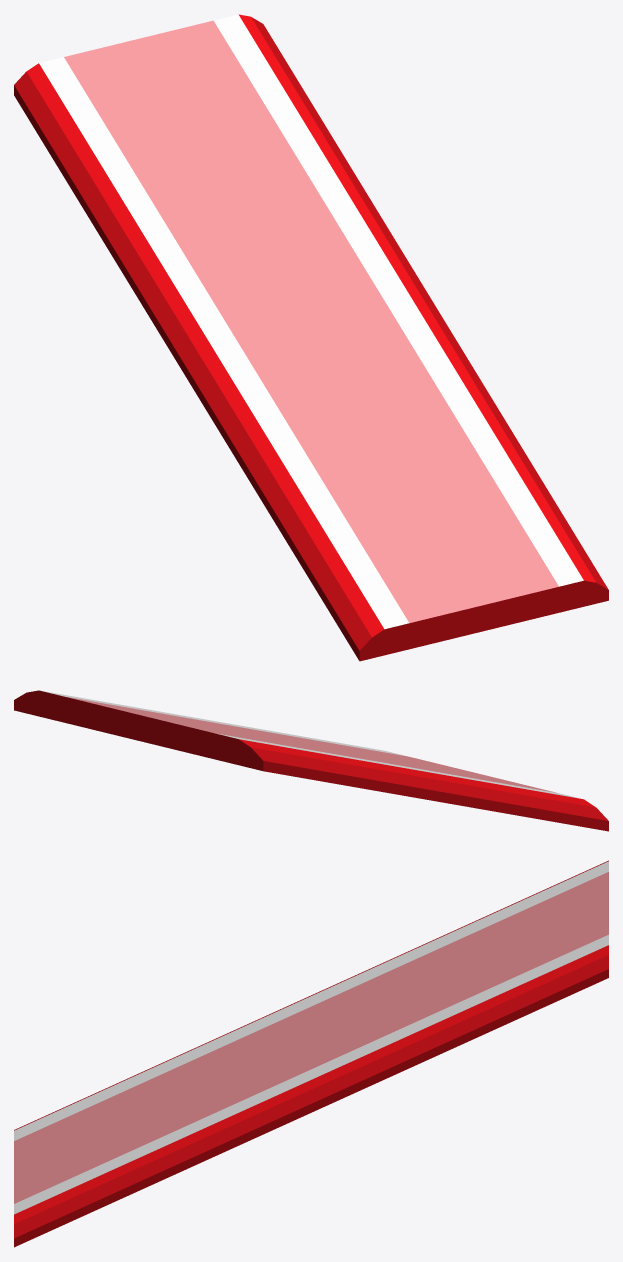
Rendered from longf4.fbx.
3 renders of one model, top to bottom at view 1: azimuth 30°, elevation 25°; view 2: azimuth 150°, elevation 25°; view 3: azimuth 270°, elevation 25°, orthographic. The views are drawn at different scales.
Visible parts, largest first — view 1: InclineLong4; view 2: InclineLong4; view 3: InclineLong4.
Part boxes in pixels (x1,y1,x2,y2): InclineLong4: (14, 14, 608, 661); InclineLong4: (14, 690, 608, 831); InclineLong4: (14, 860, 608, 1247).
Bounding box in the file's own units: 10 × 13 × 24.
